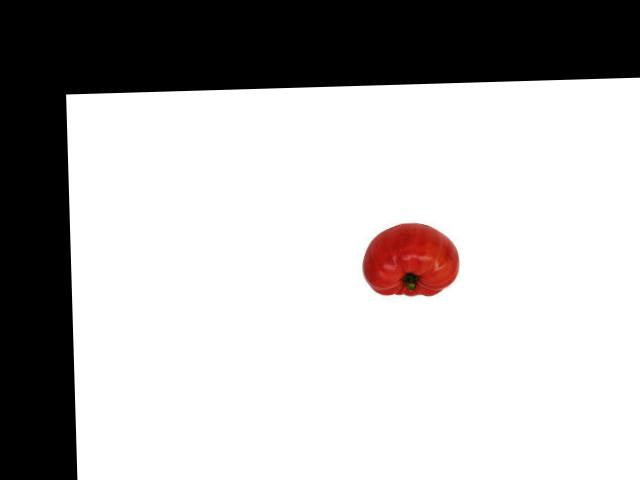tomato: (362, 222, 460, 295)
